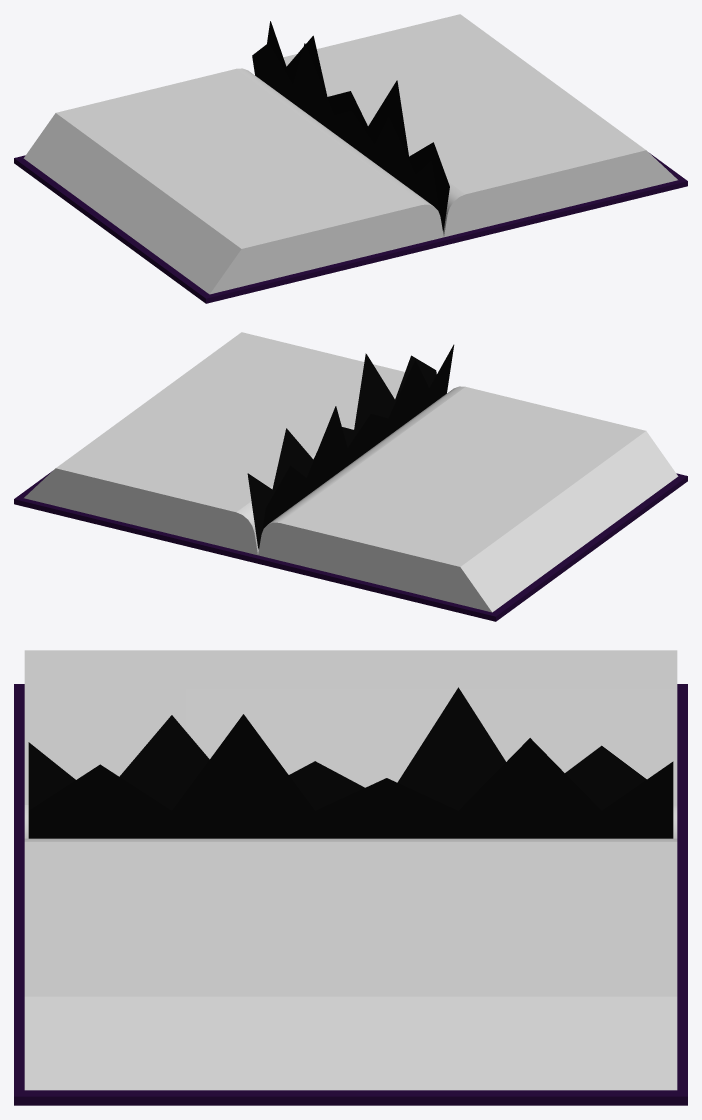
File: Book_Open2_Dark_Purple.fbx
3 renders of one model, top to bottom at view 1: azimuth 30°, elevation 25°; view 2: azimuth 150°, elevation 25°; view 3: azimuth 270°, elevation 25°, orthographic. The views are drawn at different scales.
Visible parts, largest first — view 1: Book_Open2_Dark_Purple; view 2: Book_Open2_Dark_Purple; view 3: Book_Open2_Dark_Purple.
Part boxes in pixels (x1,y1,x2,y2): Book_Open2_Dark_Purple: [14, 14, 687, 303]; Book_Open2_Dark_Purple: [14, 332, 687, 621]; Book_Open2_Dark_Purple: [14, 650, 687, 1105].
Size of the model in its own units: 39.42 by 8.85 by 27.21.
